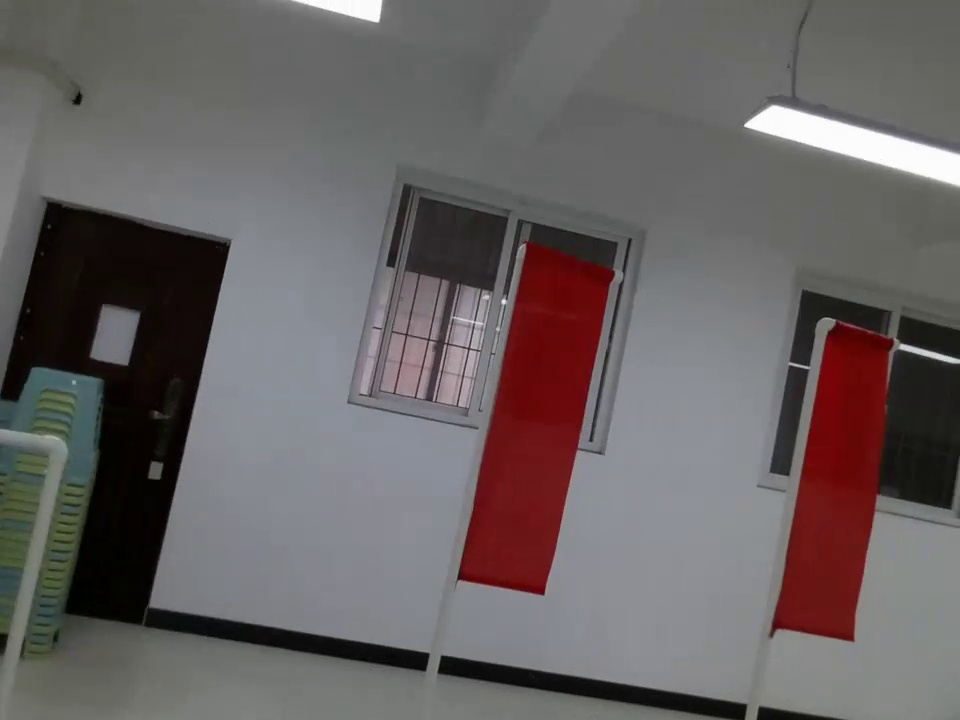qi: (441, 236, 607, 612), (759, 313, 897, 675)
